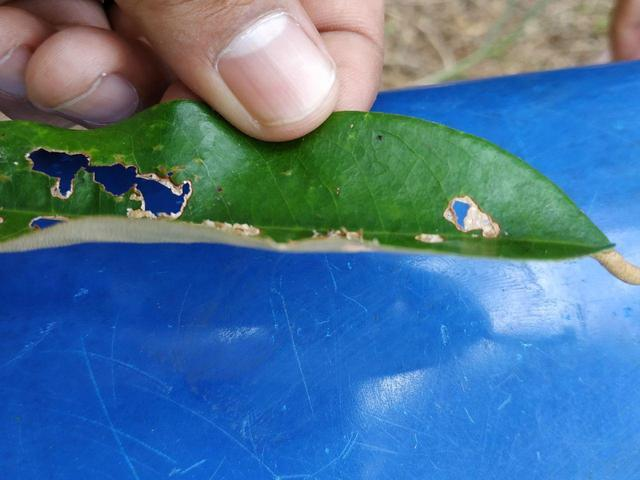Blight Spot: (232, 163, 629, 275), (9, 135, 201, 254)
